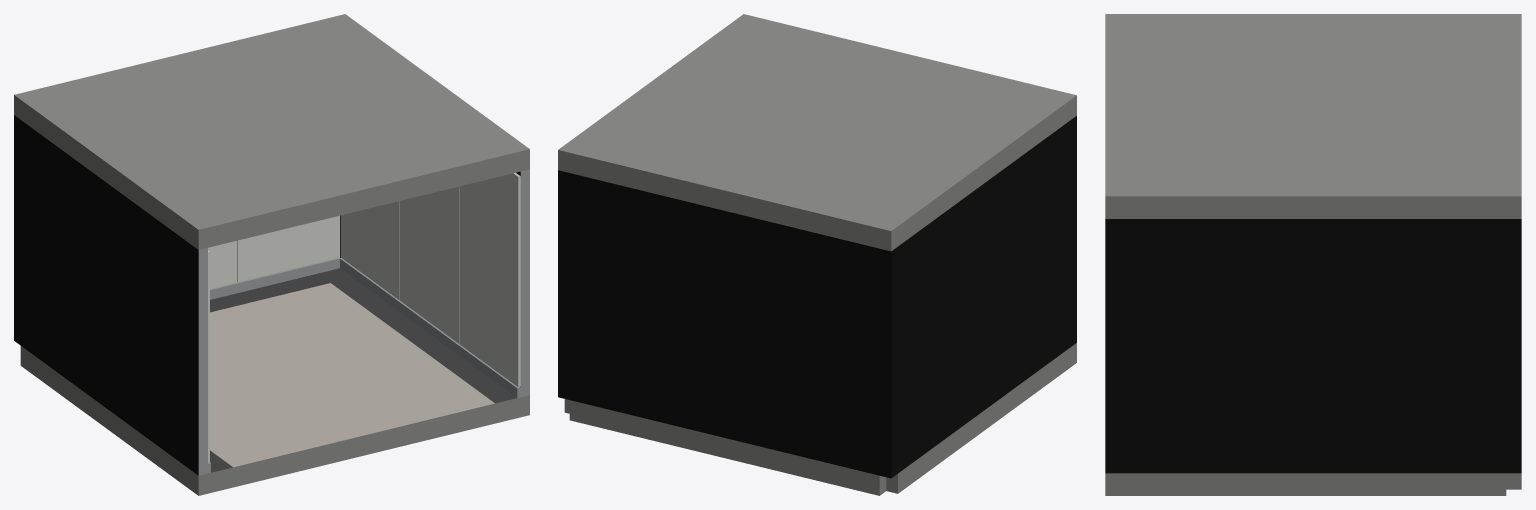
The model's file is gteki_passage_end_w4.glb.
The picture shows the model from 3 angles, left to right: view 1: azimuth 30°, elevation 25°; view 2: azimuth 150°, elevation 25°; view 3: azimuth 270°, elevation 25°; orthographic projection. The views are drawn at different scales.
Parts seen in each view (by area): view 1: VIS_body; view 2: VIS_body; view 3: VIS_body.
Part boxes in pixels (x1,y1,x2,y2): VIS_body: (14,14,529,495); VIS_body: (558,14,1076,495); VIS_body: (1105,14,1521,495).
Size of what is drawn, in the model's own units: 4.3 by 3.3 by 4.15.
Materials: 1 (1 with a texture image).
